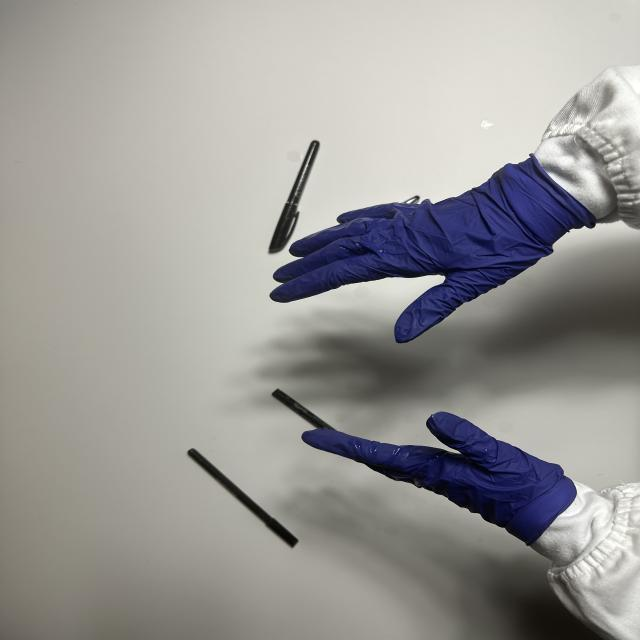gloves_contaminated: (270, 156, 594, 343), (303, 412, 576, 545)
